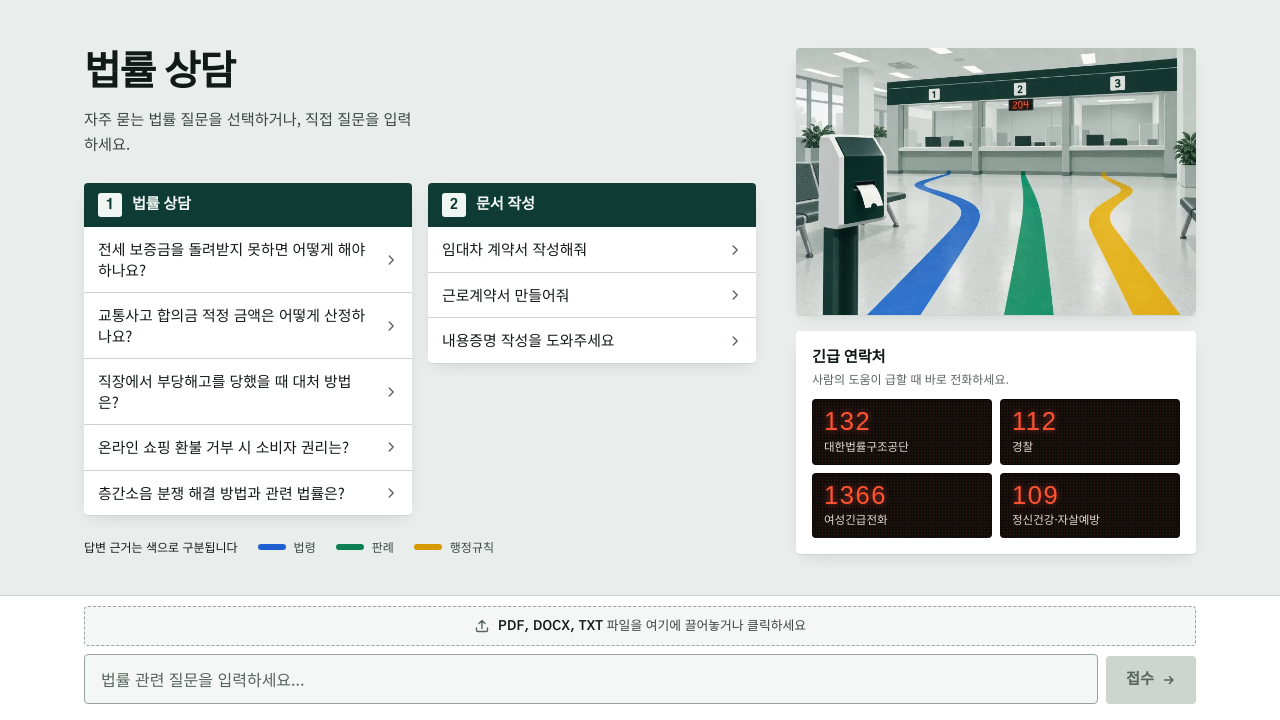
Test: ChatContainer › 스트림 오류 시 재시도 › fetch 자체가 실패해도 재시도 버튼을 노출해야 한다
Click the button "내용증명 작성을 도와주세요" at (592, 341), box [428,318,756,363]
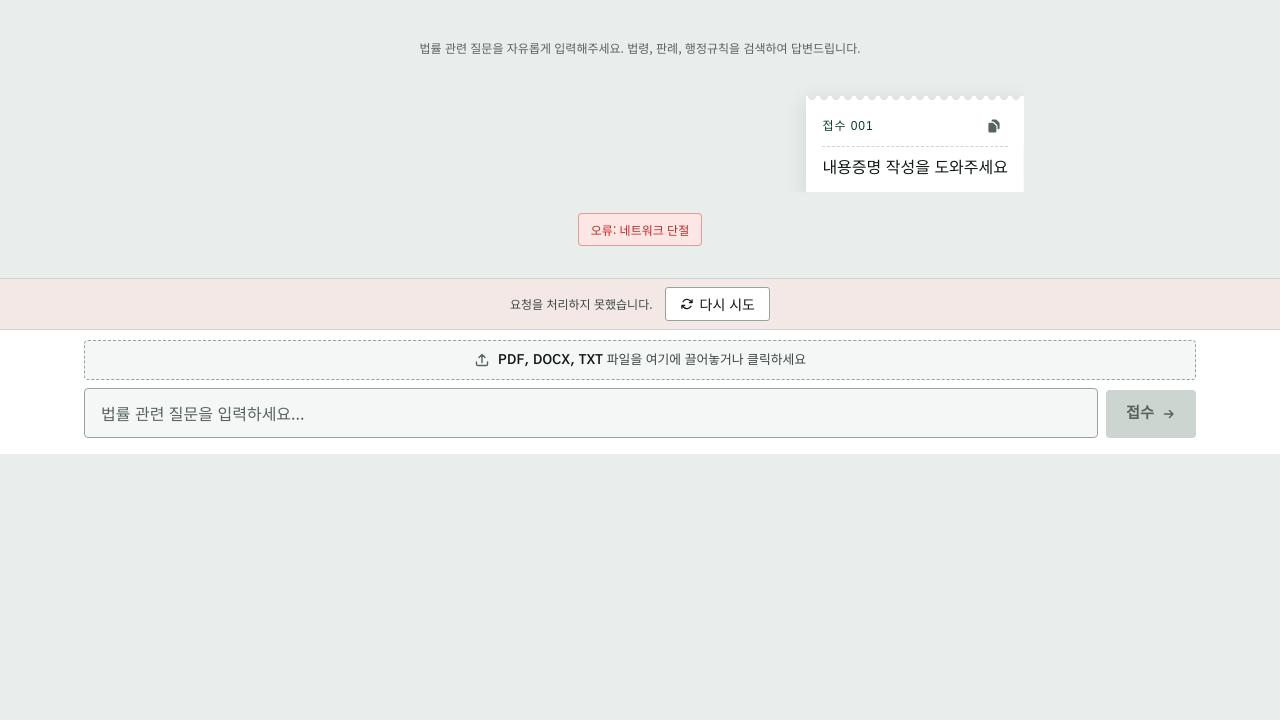
expect the text "오류: 네트워크 단절" is shown: met, box [578,212,702,246]
expect the button "다시 시도" is shown: met, box [664,287,770,321]
